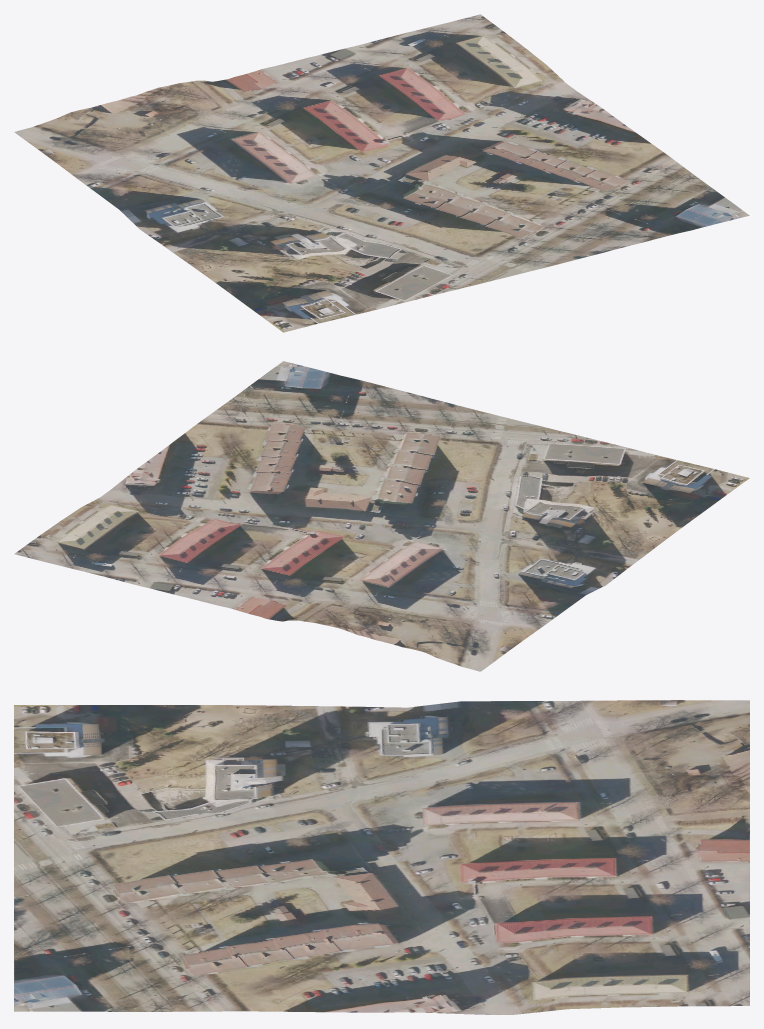
Rendered from CM_Terrain_24488820_6821227.fbx.
3 views of the same model, one above another, from view 1: azimuth 30°, elevation 25°; view 2: azimuth 150°, elevation 25°; view 3: azimuth 270°, elevation 25° (orthographic). The views are drawn at different scales.
Parts seen in each view (by area): view 1: CM_Terrain_24488820_6821227_LOD0; view 2: CM_Terrain_24488820_6821227_LOD0; view 3: CM_Terrain_24488820_6821227_LOD0.
Boxes of the visible parts, left/top/right/bottom form: CM_Terrain_24488820_6821227_LOD0: left=14, top=14, right=749, bottom=332; CM_Terrain_24488820_6821227_LOD0: left=14, top=361, right=749, bottom=671; CM_Terrain_24488820_6821227_LOD0: left=14, top=700, right=749, bottom=1014.
Size of what is drawn, in the model's own units: 205 by 7.25 by 205.
